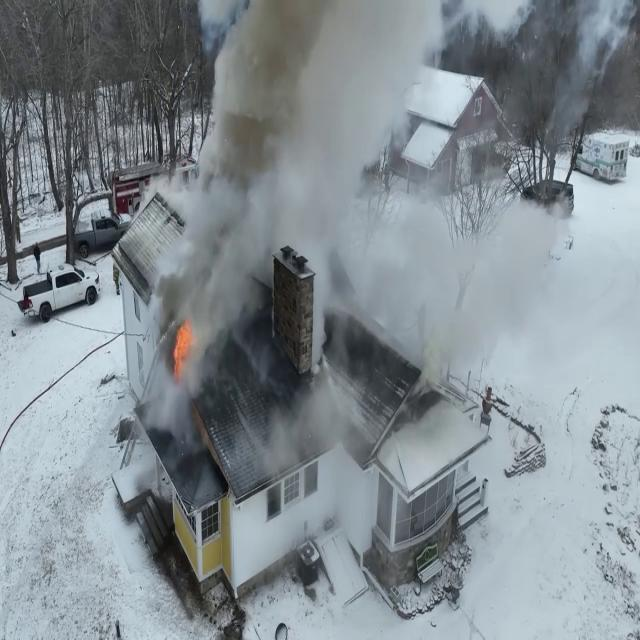Fire: (171, 311, 195, 378)
Smoke: (160, 0, 560, 398)
